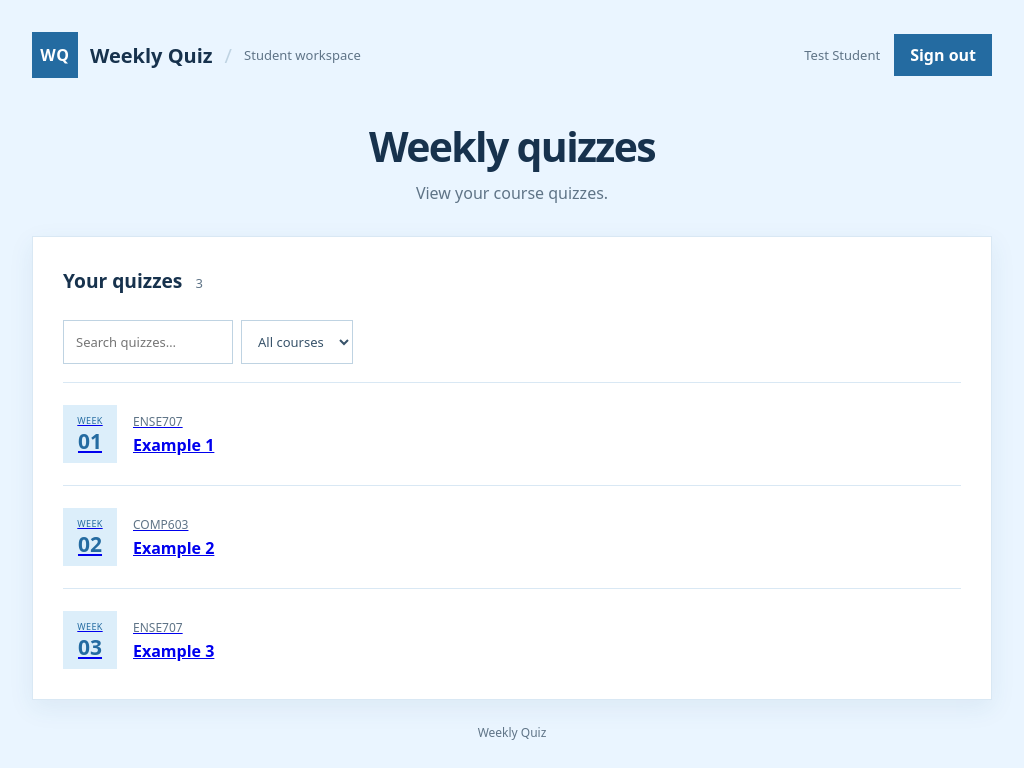
Test: Student dashboard › filters quizzes by search and course
The image size is (1024, 768).
In the search field: (148, 342) left=63, top=320, right=233, bottom=364, type "Example 1"
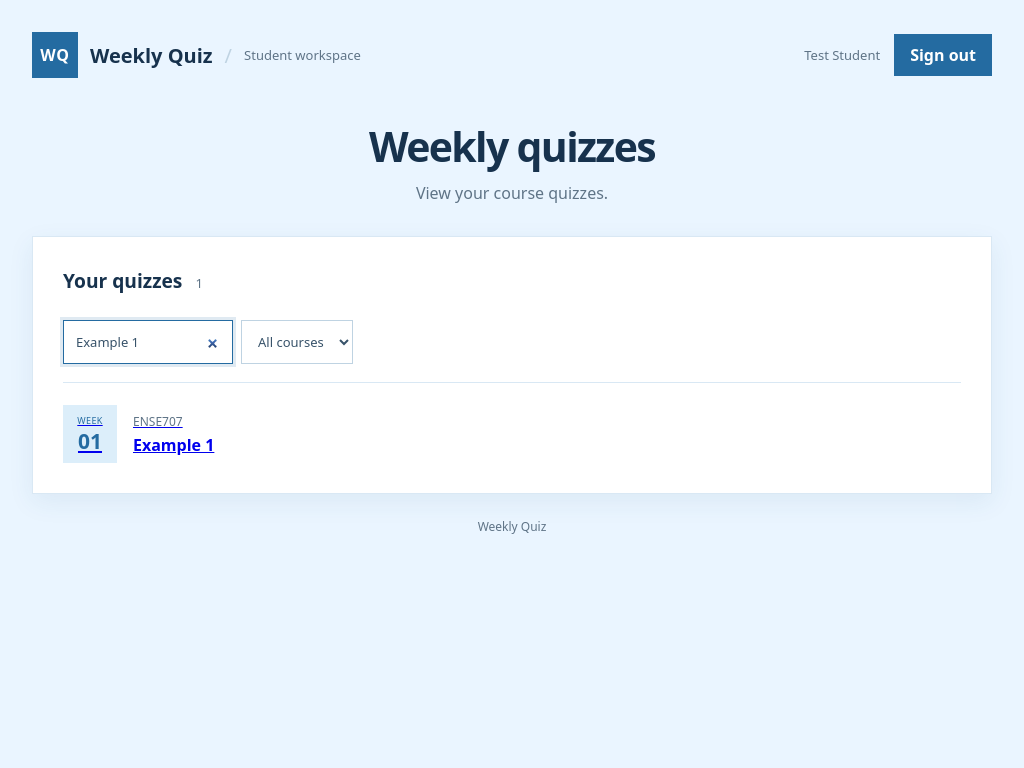
Expected: the heading "Example 1" is shown, left=133, top=434, right=214, bottom=456
Now the link "Example 3" is gone
Select "COMP603" in the dropdown named "Course": (297, 342) left=241, top=320, right=353, bottom=364
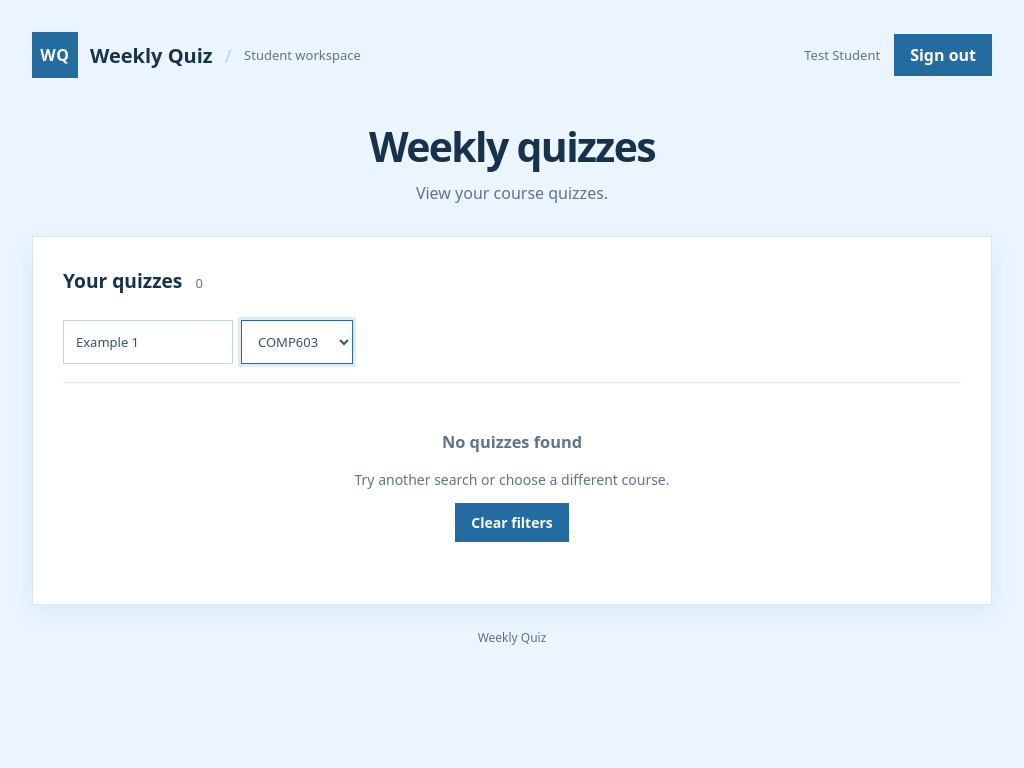
Now the heading "No quizzes found" is shown, box left=442, top=431, right=582, bottom=453
